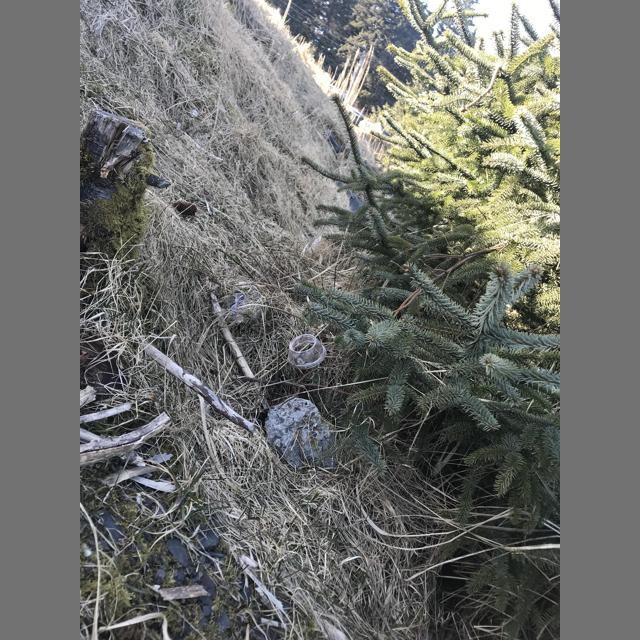litter: (287, 334, 326, 369), (230, 294, 253, 323)
